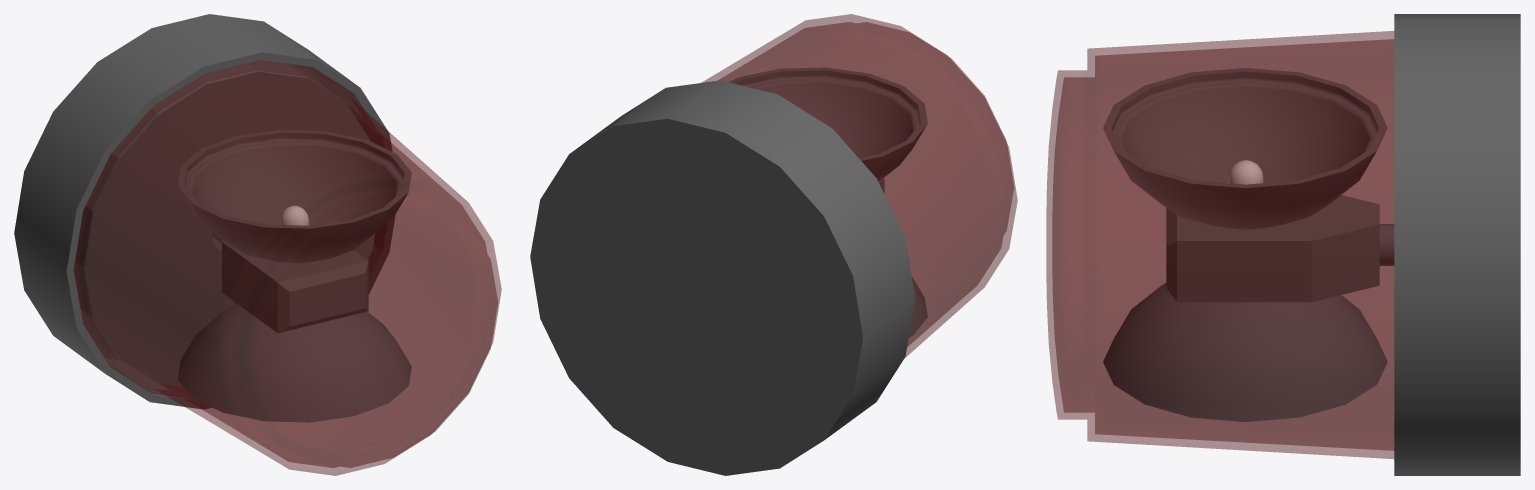
The model's file is alrt.gltf.
3 views of the same model, side by side, from view 1: azimuth 30°, elevation 25°; view 2: azimuth 150°, elevation 25°; view 3: azimuth 270°, elevation 25° (orthographic). The views are drawn at different scales.
Visible parts, largest first — view 1: Glass, Base, Rot; view 2: Base, Glass, Rot; view 3: Glass, Rot, Base, Bulb.
Boxes of the visible parts, x1,y1,x2,y2 form: Glass: (74,60,501,475); Base: (14,14,394,409); Rot: (177,129,411,422); Base: (530,80,915,475); Glass: (701,14,1017,357); Rot: (729,67,927,337); Glass: (1046,31,1394,458); Rot: (1103,68,1394,421); Base: (1394,14,1520,475); Bulb: (1228,160,1263,184).
Size of the model in its own units: 21.99 by 21.66 by 22.51.
